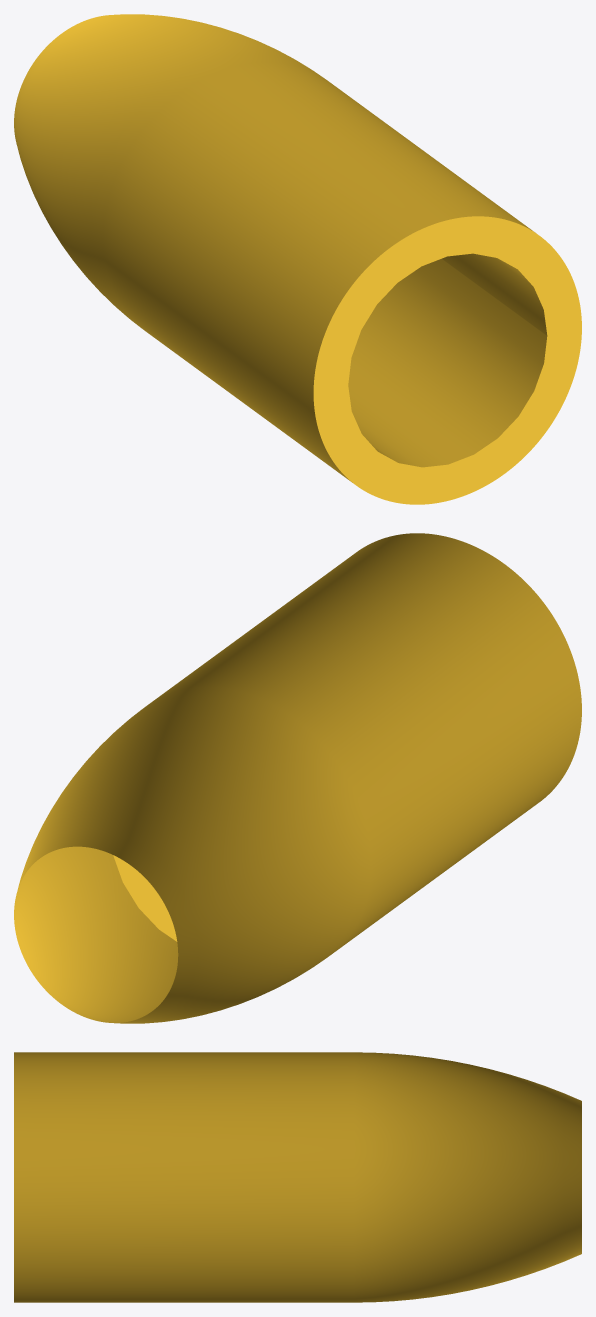
File: model_scale.obj
3 renders of one model, top to bottom at view 1: azimuth 30°, elevation 25°; view 2: azimuth 150°, elevation 25°; view 3: azimuth 270°, elevation 25°, orthographic. The views are drawn at different scales.
Parts seen in each view (by area): view 1: mesh1_mesh1-geometry; view 2: mesh1_mesh1-geometry; view 3: mesh1_mesh1-geometry.
Boxes of the visible parts, bbox=[...] form: mesh1_mesh1-geometry: bbox=[14, 14, 581, 504]; mesh1_mesh1-geometry: bbox=[14, 533, 581, 1023]; mesh1_mesh1-geometry: bbox=[14, 1052, 581, 1302].
Size of the model in its own units: 0.0758 by 0.0758 by 0.172.
